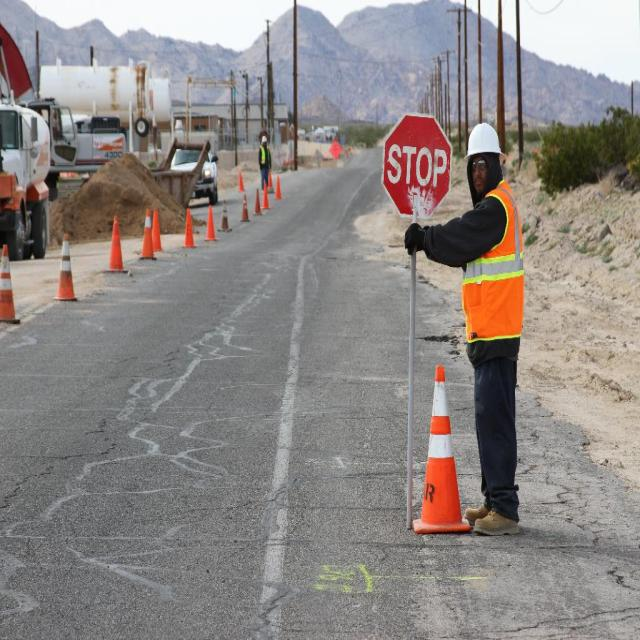Stop-sign: (380, 112, 454, 221)
